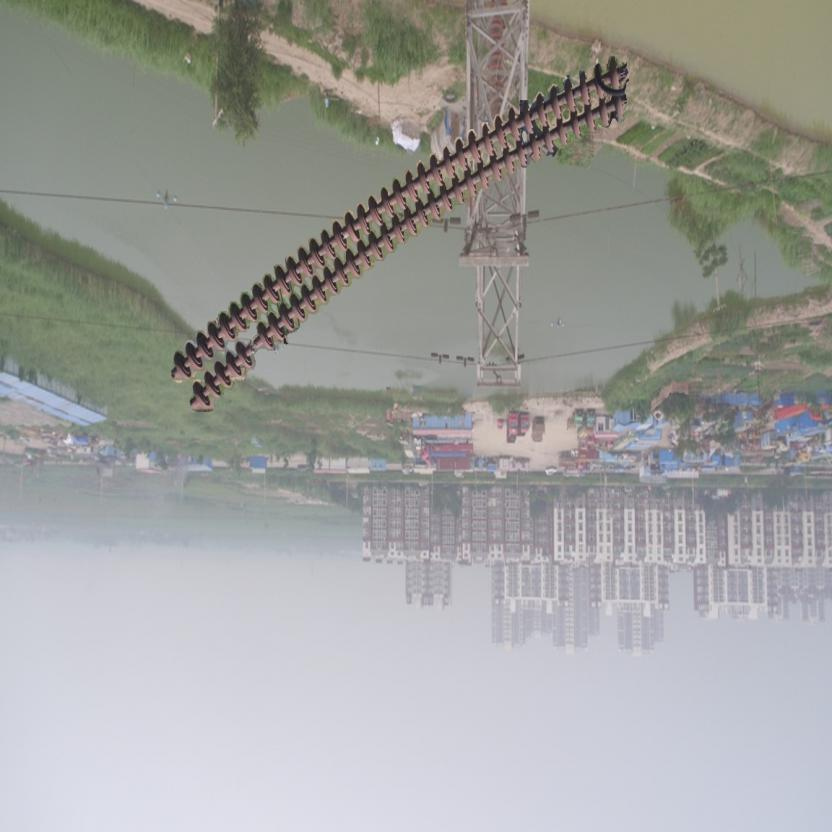defect: (234, 318, 276, 370)
